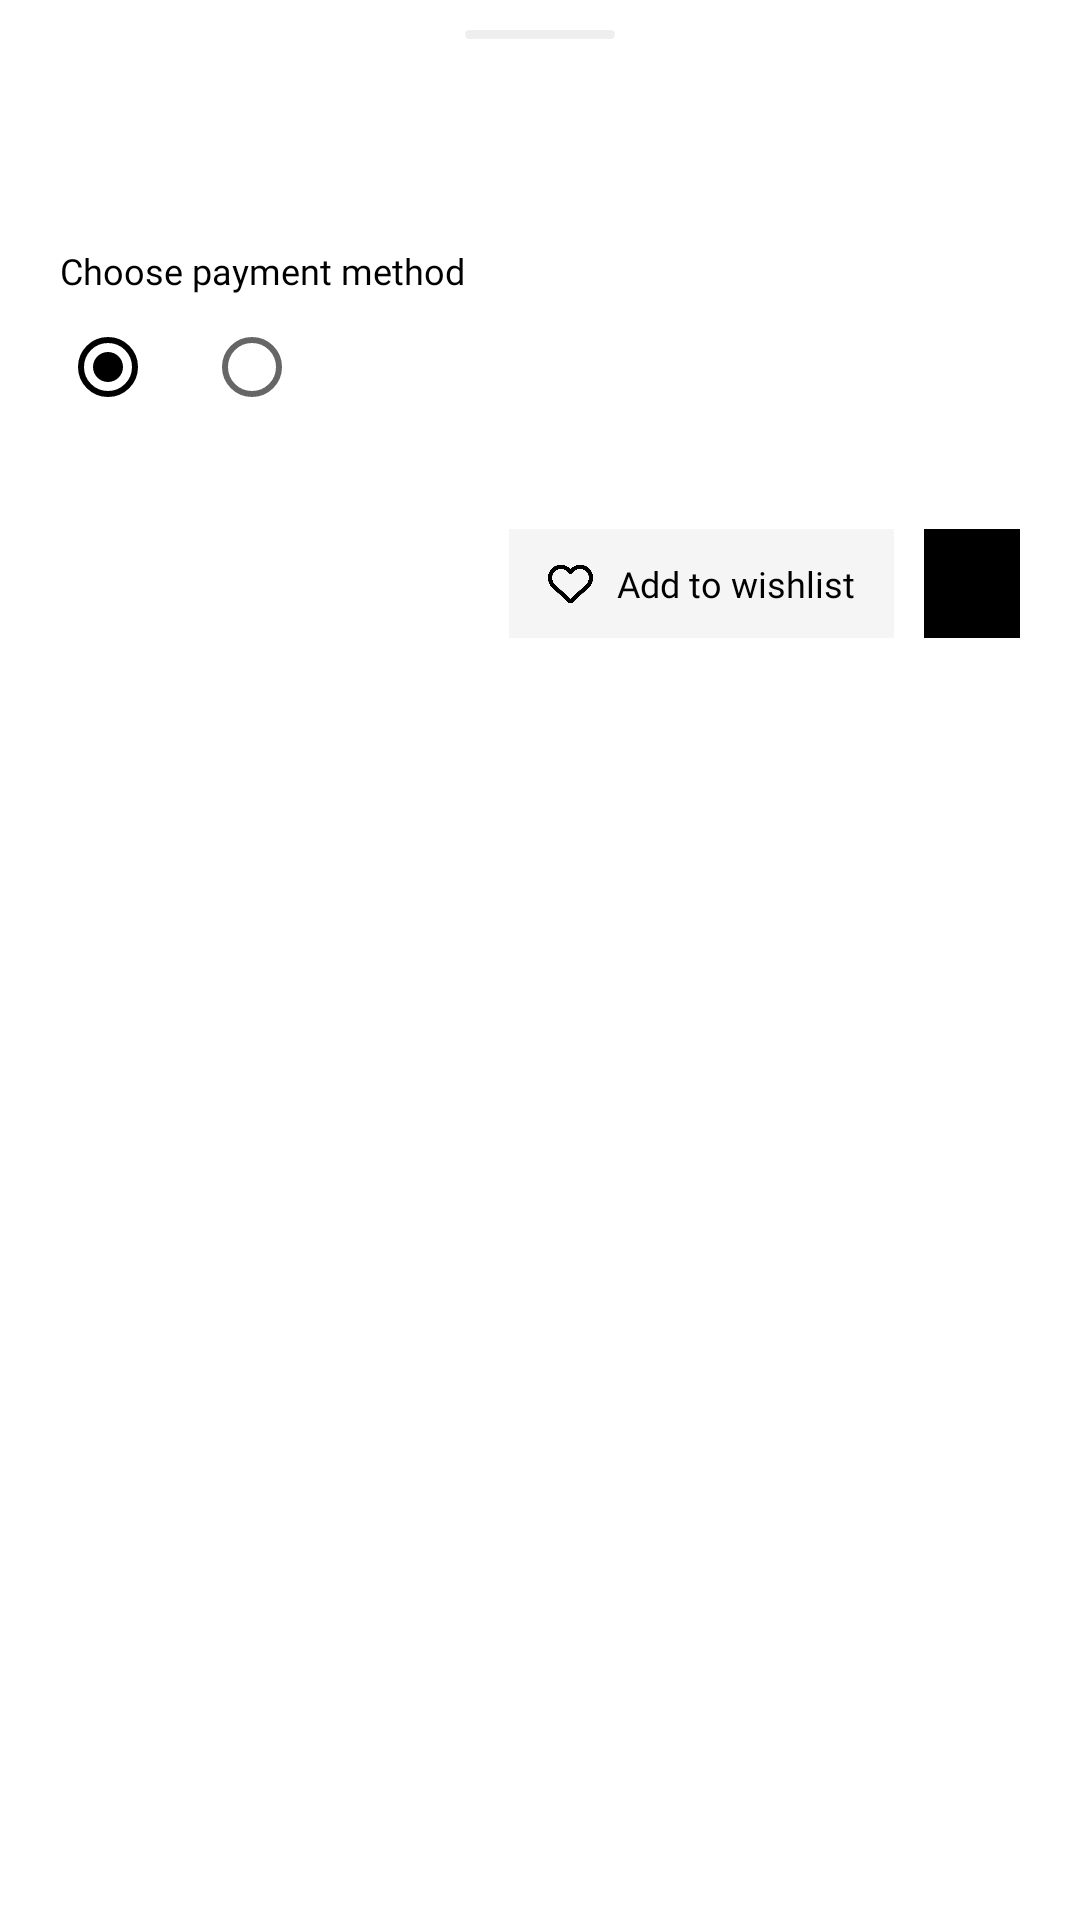

Screen size 1080px x 1920px. Icon name, then its box in pixels as (x1, y1, x2, y2):
heart hollow: (548, 565, 593, 603)
